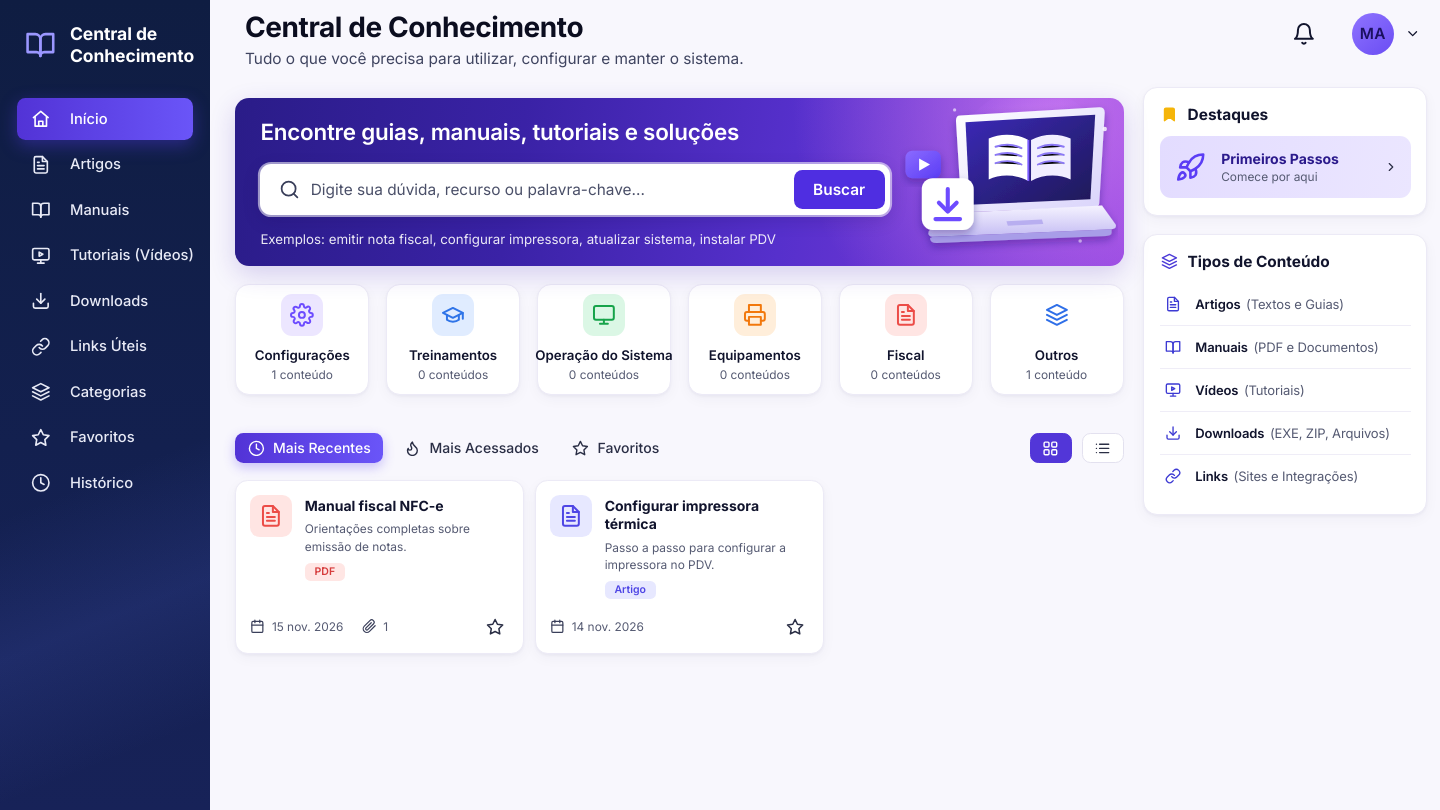
Central de Conhecimento › pesquisa com Enter, por termo parcial e sem acento
Type "termica" into the search field named "pesquisar". click: (552, 190)
box: [311,164,794,215]
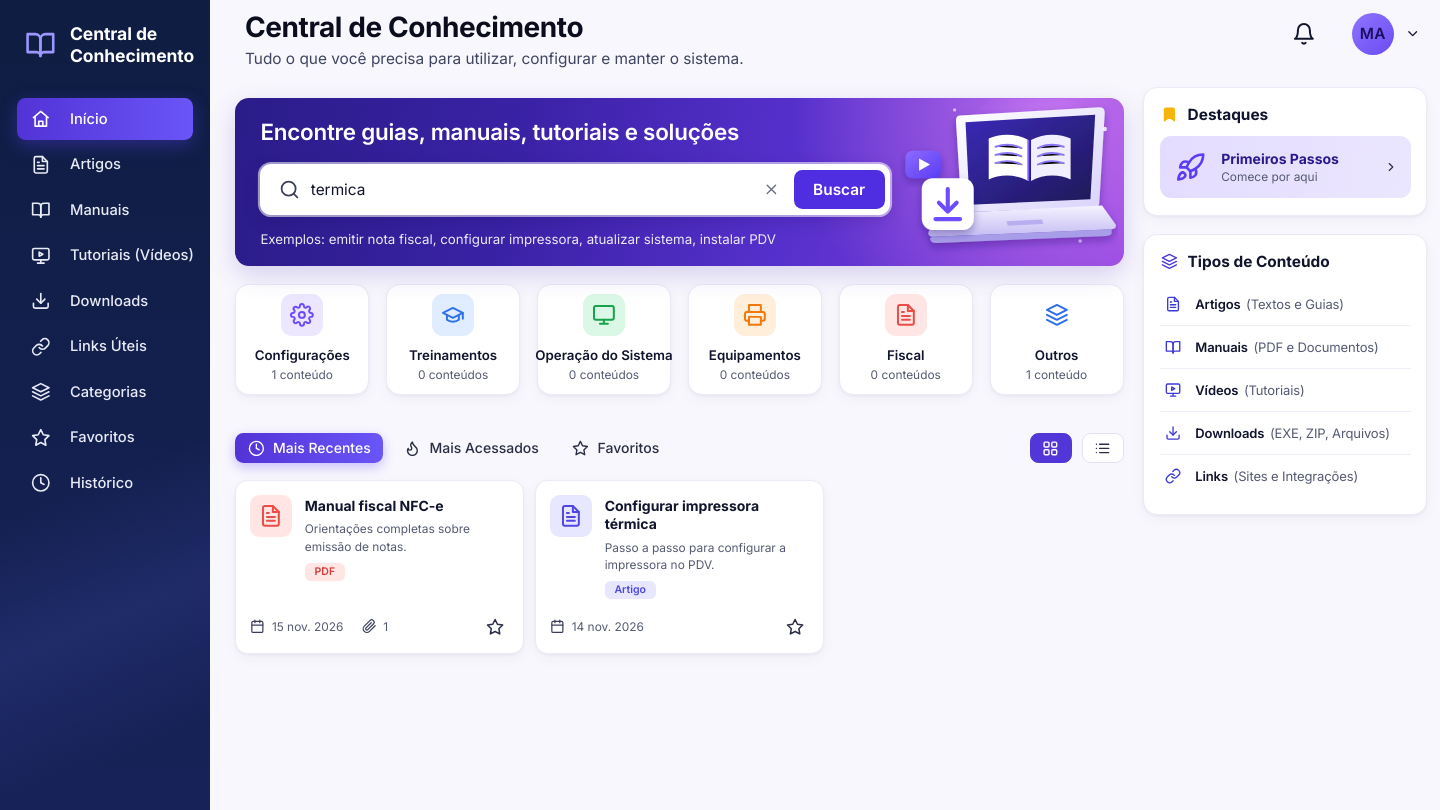
Submit the form named "pesquisar", box [260,164,890,215]
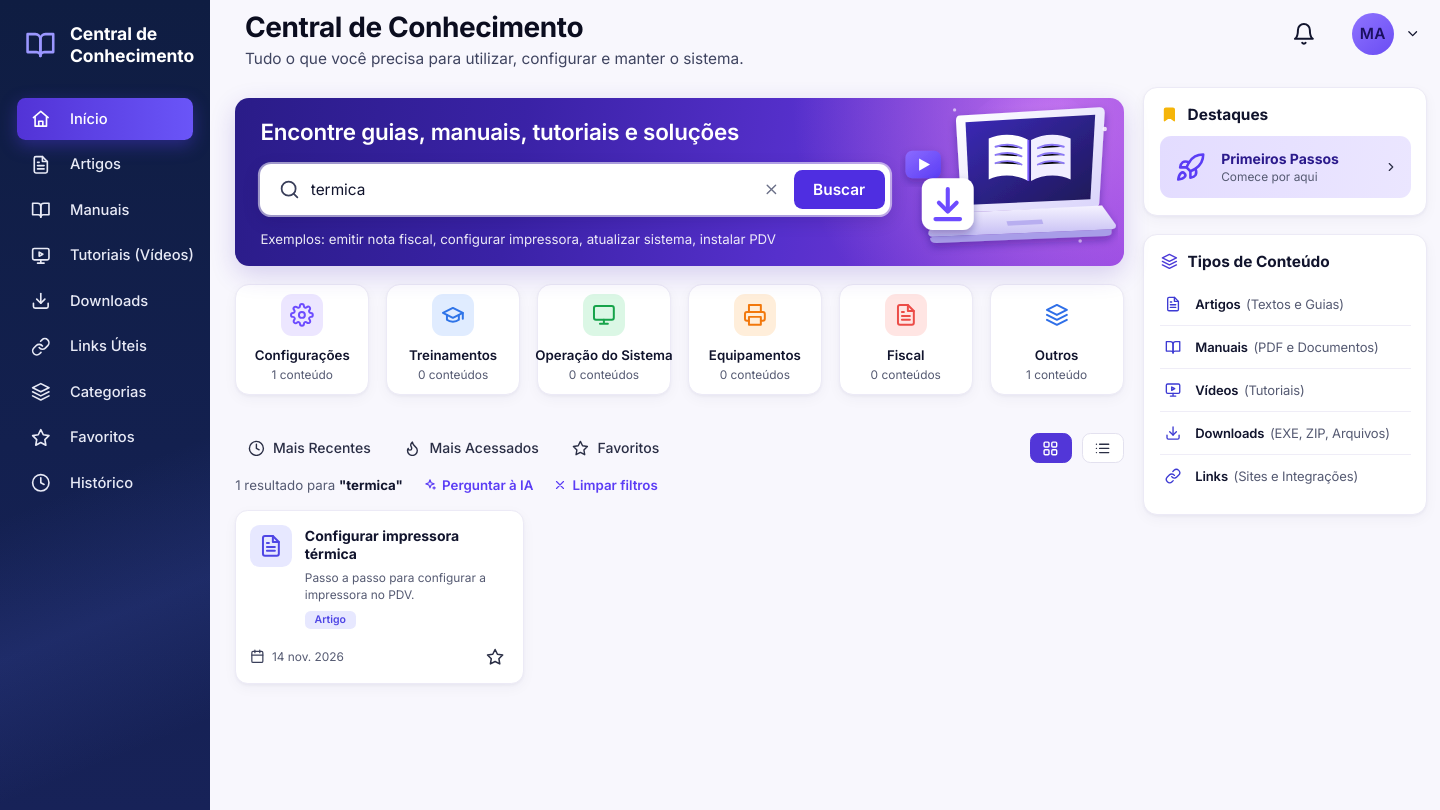
Check: the text "1 resultado para \"termica\"" is shown, box [235,477,403,493]
